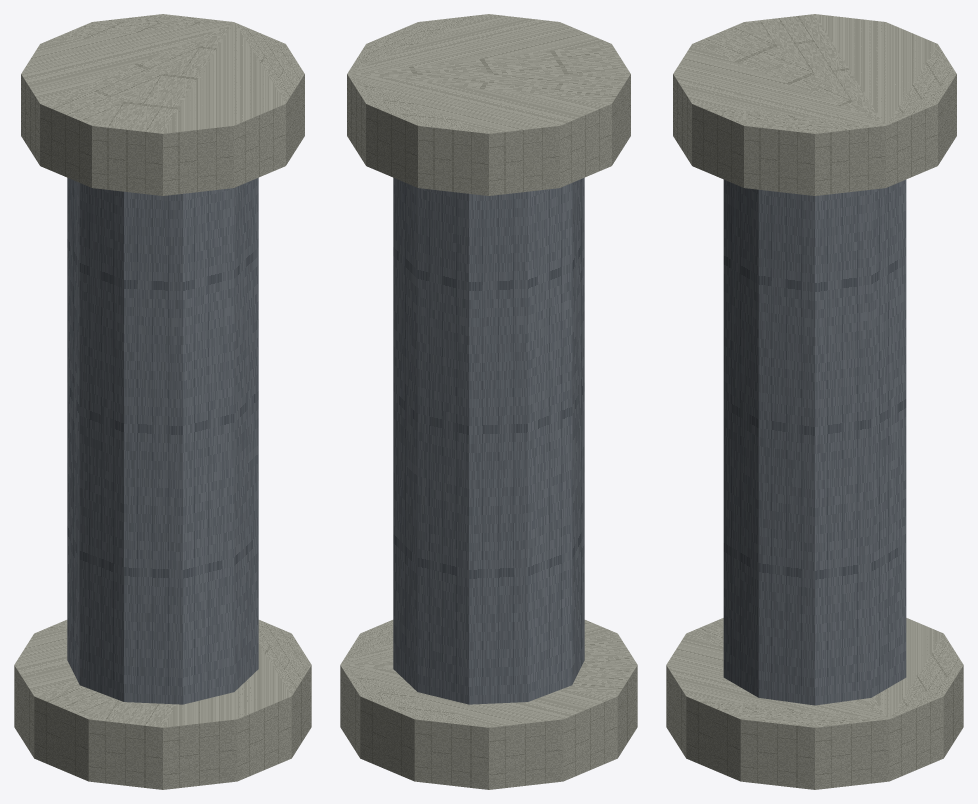
Rendered from pillar_intact.glb.
3 views of the same model, side by side, from view 1: azimuth 30°, elevation 25°; view 2: azimuth 150°, elevation 25°; view 3: azimuth 270°, elevation 25° (orthographic).
Parts seen in each view (by area): view 1: shaft, capital, base; view 2: shaft, capital, base; view 3: shaft, capital, base.
Part boxes in pixels (box(x1,y1,x2,y2)): shaft: box(67, 178, 258, 704); capital: box(21, 14, 304, 195); base: box(14, 620, 311, 789); shaft: box(393, 178, 584, 704); capital: box(347, 14, 630, 195); base: box(340, 620, 637, 789); shaft: box(723, 179, 906, 705); capital: box(673, 14, 956, 195); base: box(666, 618, 963, 789).
Bounding box in the file's own units: 1.3 × 3.15 × 1.3.
1 material, 1 textured.
